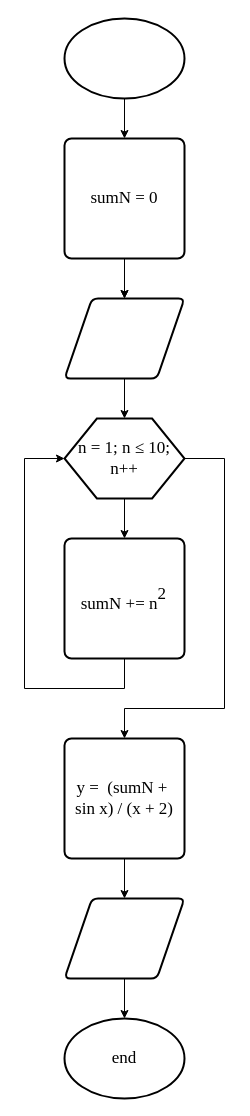
This 250x1116 diagram has some shape labels left out. Each missing label, with the centre of its shape:
"input x" belongs at (x=124, y=338).
"output y" belongs at (x=124, y=938).
"start" belongs at (x=124, y=58).
